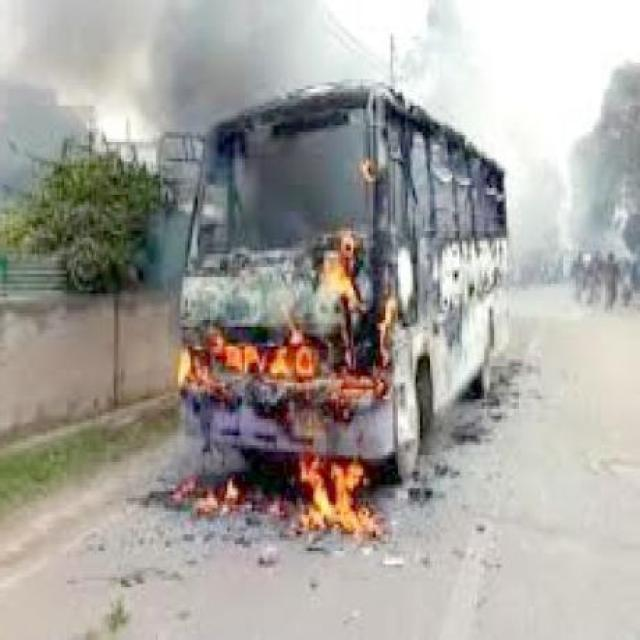Fire: (168, 236, 410, 546)
Smoke: (0, 3, 372, 232), (434, 39, 622, 318)
